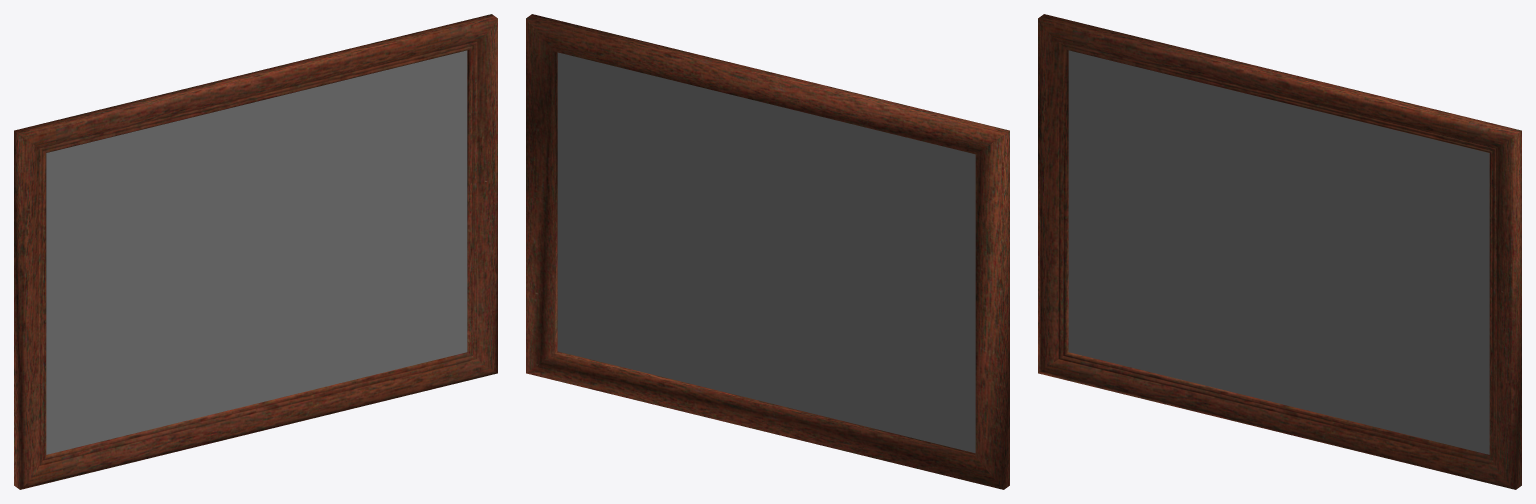
File: zhanpai1.obj
The picture shows the model from 3 angles, left to right: view 1: azimuth 30°, elevation 25°; view 2: azimuth 150°, elevation 25°; view 3: azimuth 330°, elevation 25°; orthographic projection.
Visible parts, largest first — view 1: polySurface4_polySurface6, headusOBJexport; view 2: polySurface4_polySurface6, headusOBJexport; view 3: polySurface4_polySurface6, headusOBJexport.
Boxes of the visible parts, x1,y1,x2,y2 form: polySurface4_polySurface6: (46, 50, 467, 454); headusOBJexport: (14, 14, 497, 489); polySurface4_polySurface6: (557, 52, 975, 453); headusOBJexport: (526, 14, 1009, 489); polySurface4_polySurface6: (1068, 50, 1489, 454); headusOBJexport: (1038, 14, 1521, 489).
Bounding box in the file's own units: 1.31 × 0.9302 × 0.034.
Materials: 2 (1 with a texture image).
